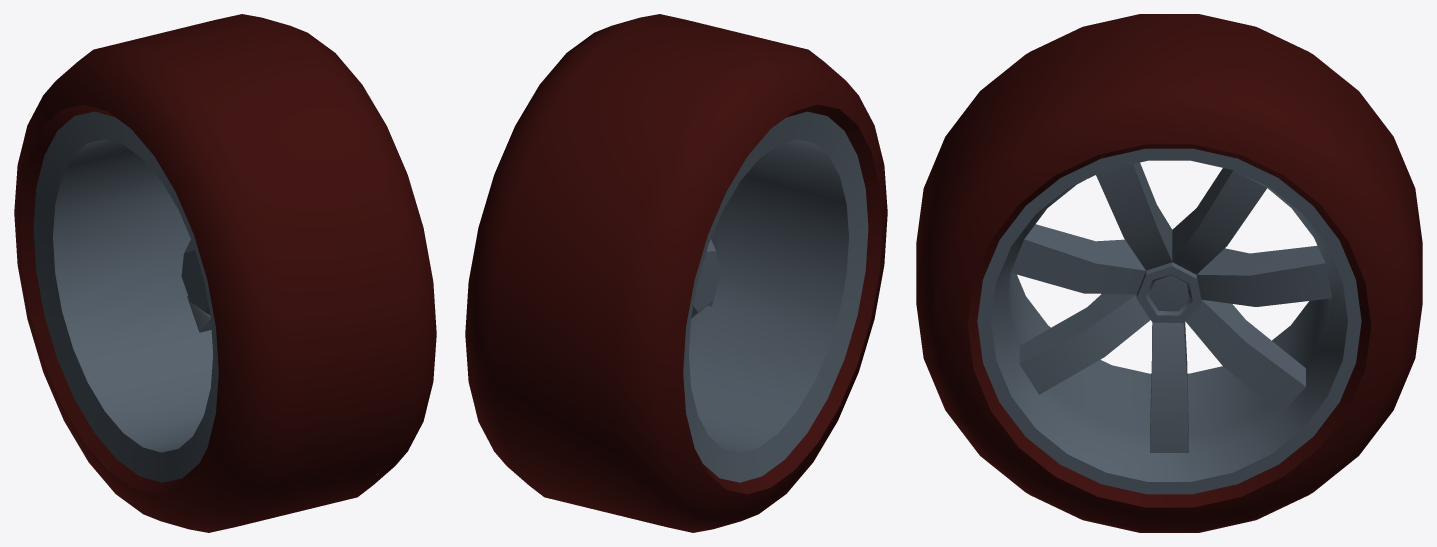
3 views of the same model, side by side, from view 1: azimuth 30°, elevation 25°; view 2: azimuth 150°, elevation 25°; view 3: azimuth 270°, elevation 25° (orthographic).
Parts seen in each view (by area): view 1: W2A; view 2: W2A; view 3: W2A.
Part boxes in pixels (x1,y1,x2,y2): W2A: [14, 14, 436, 532]; W2A: [465, 14, 887, 532]; W2A: [916, 14, 1422, 532].
Bounding box in the file's own units: 14.02 × 28.35 × 28.56.
